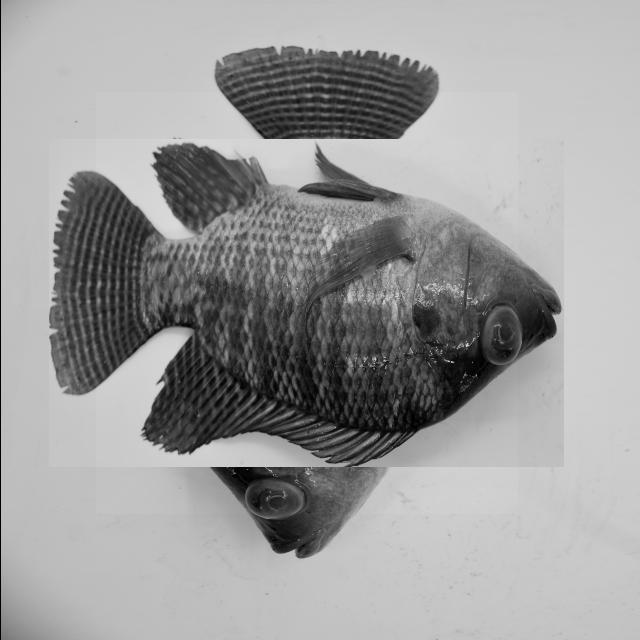streptococcus Disease: (95, 92, 517, 514)
